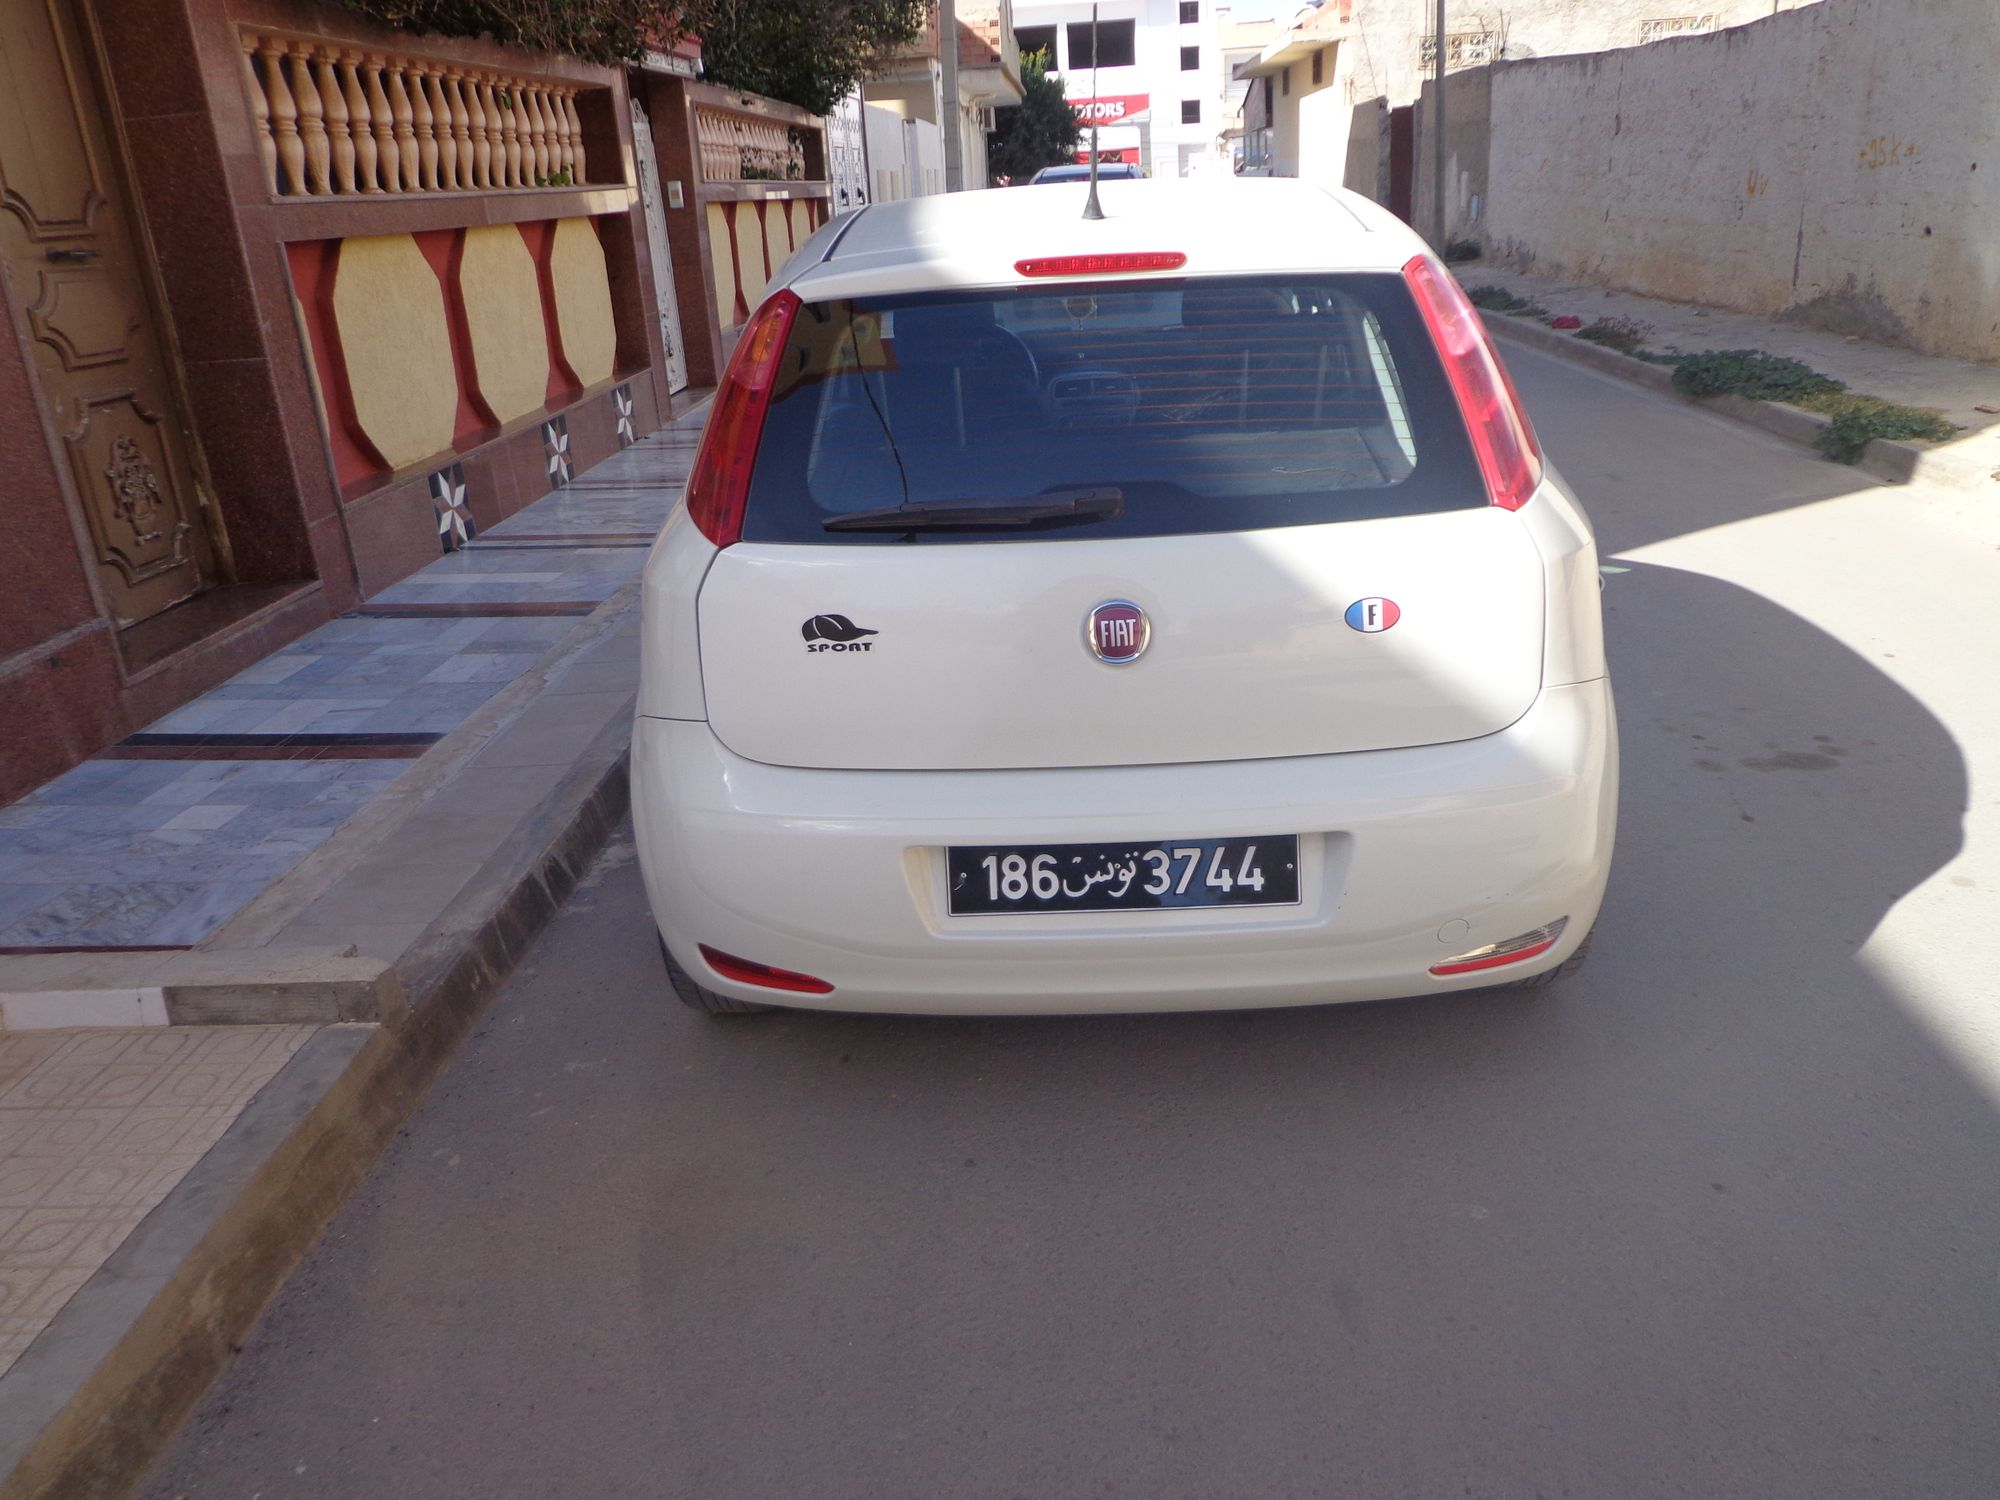LP: (944, 834, 1302, 913)
